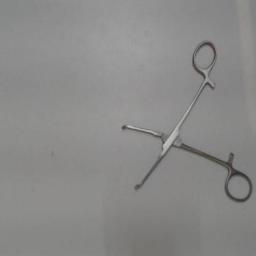Allis Tissue Forceps: (116, 35, 256, 207)
